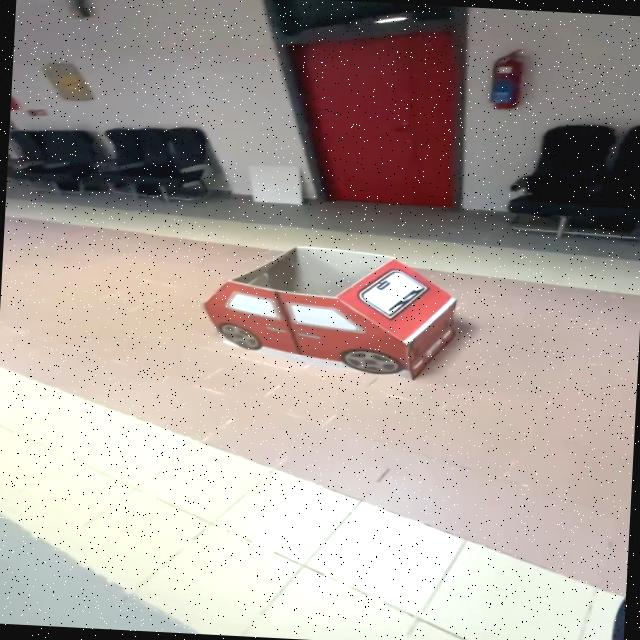red_car: (178, 233, 494, 420)
